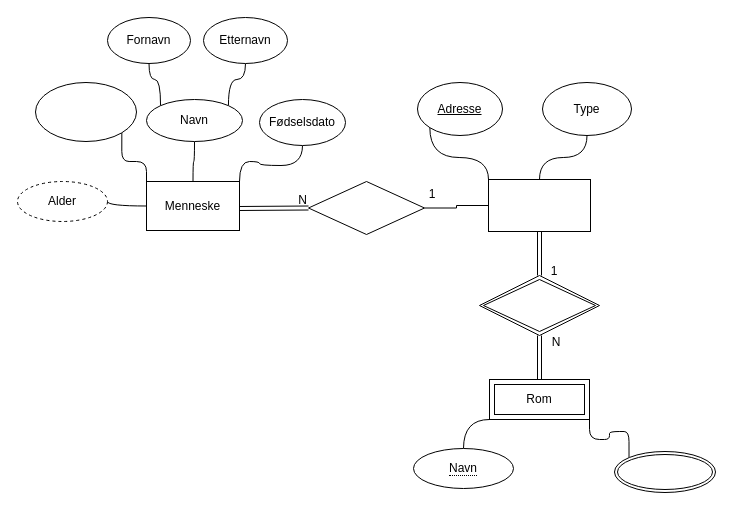
Image size: 733x510. Some labels were removed from this diagram. Each missing label, with the box of its shape:
Bolig: (488, 178, 590, 232)
Bor: (308, 180, 424, 234)
Bruksområder: (614, 450, 716, 492)
inneholder: (478, 274, 600, 336)
Personnummer: (34, 82, 136, 142)
